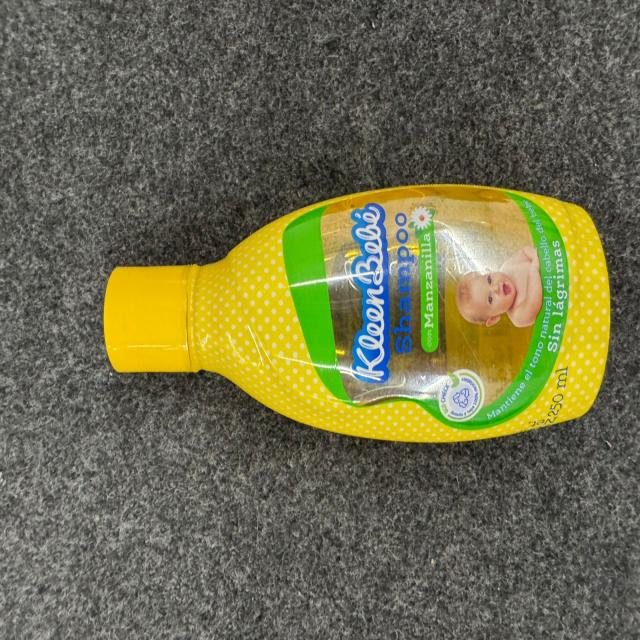Atun Mazatun Agua Sin Soya 130grs: (105, 181, 610, 444)
